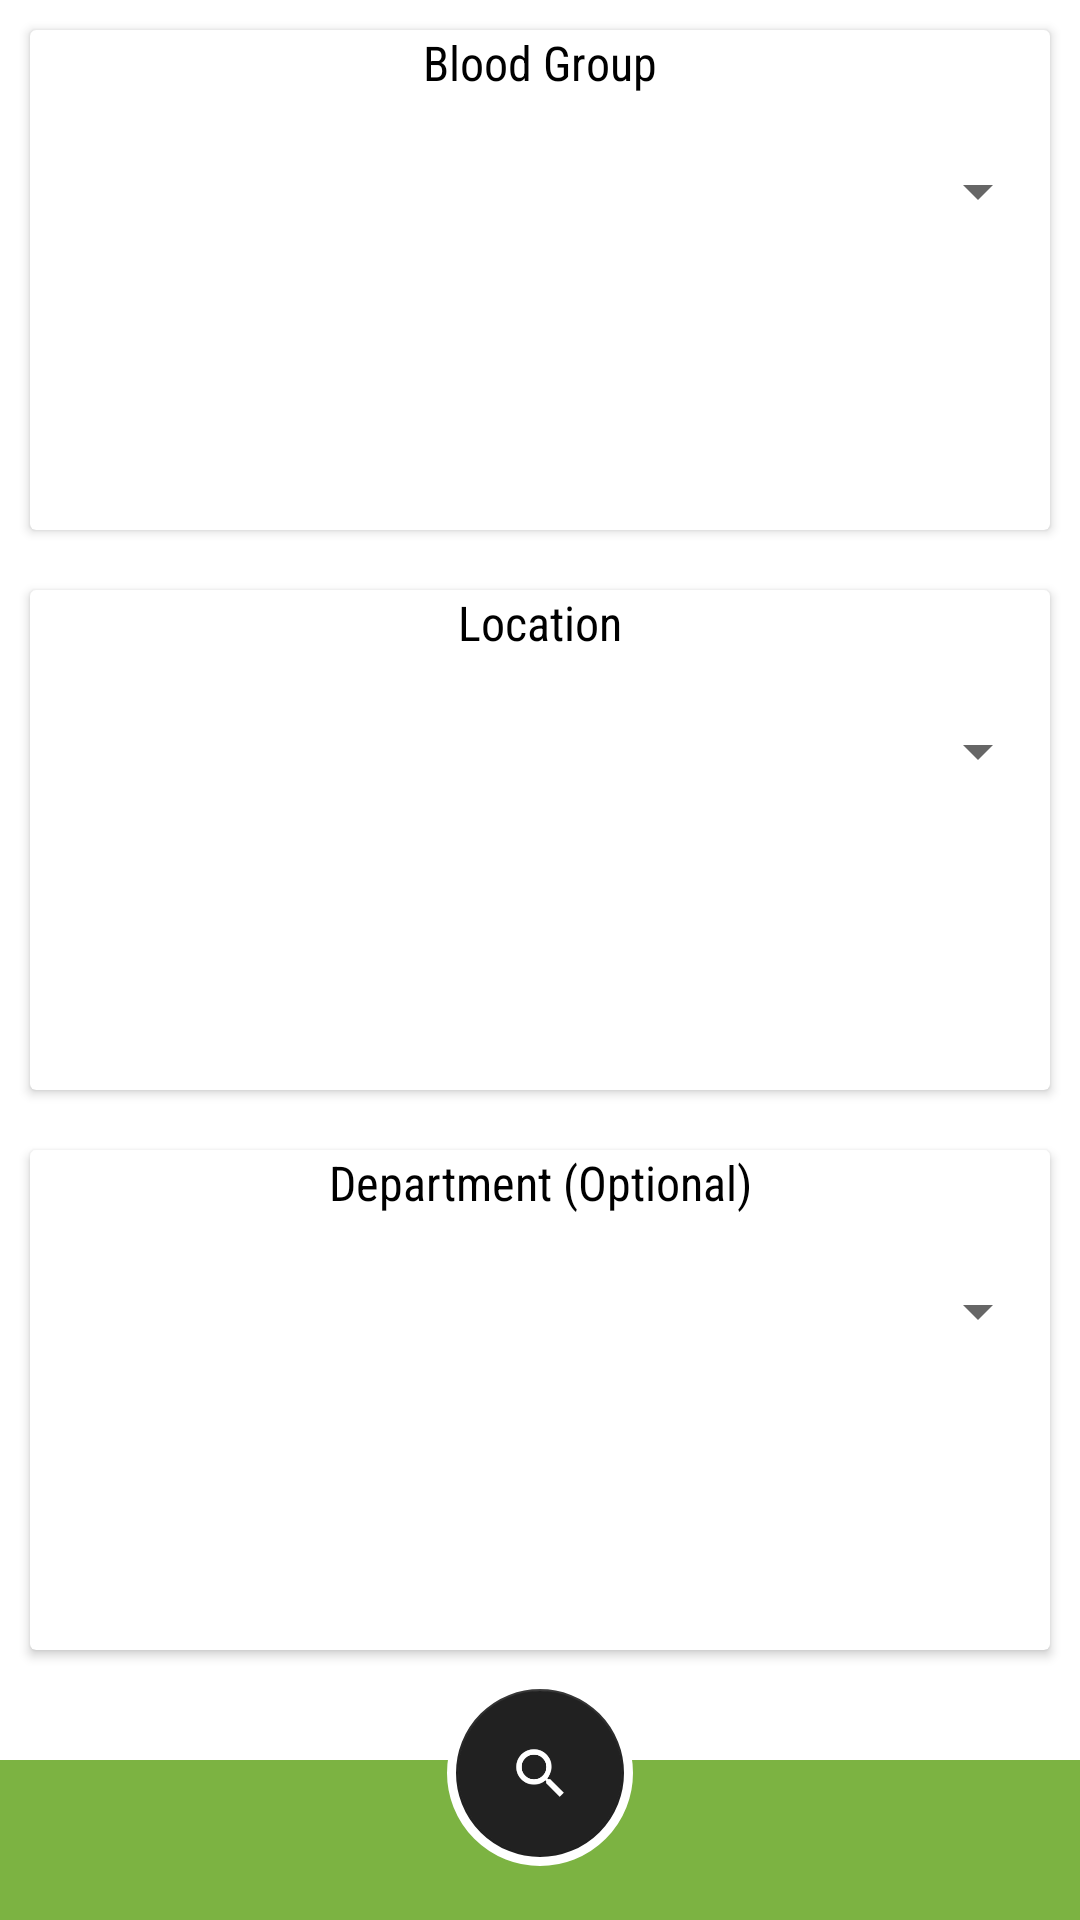

Named icons in this screenshot (1080*1920) and their centers, point (x, y):
search: point (540, 1773)
